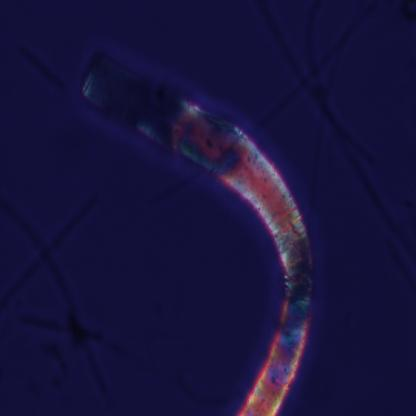Microfibre: (76, 52, 315, 416)
